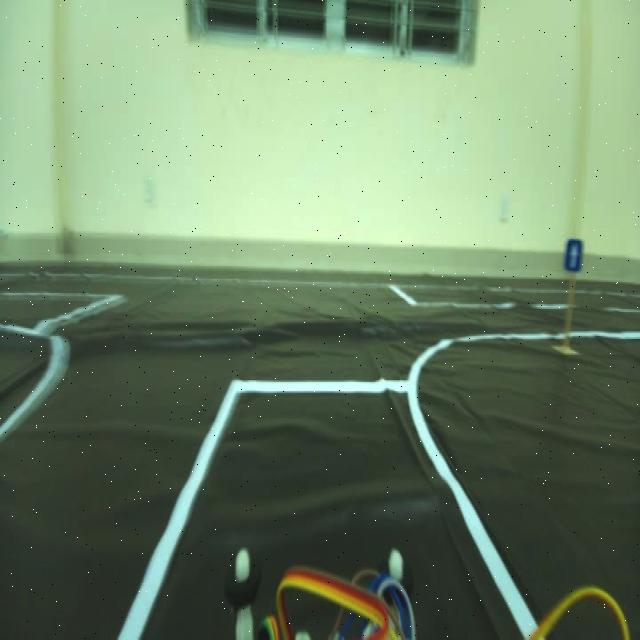onewayroad: (560, 233, 590, 279)
